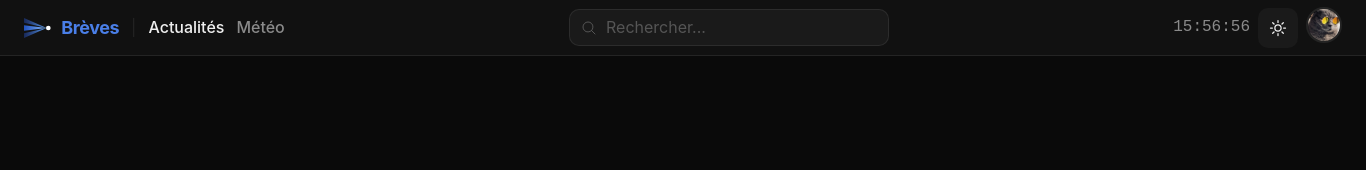
Header › connecté › opens dropdown on avatar click
Click the button named "Menu utilisateur": coordinates (1324, 25) x1=1306 y1=7 x2=1342 y2=43
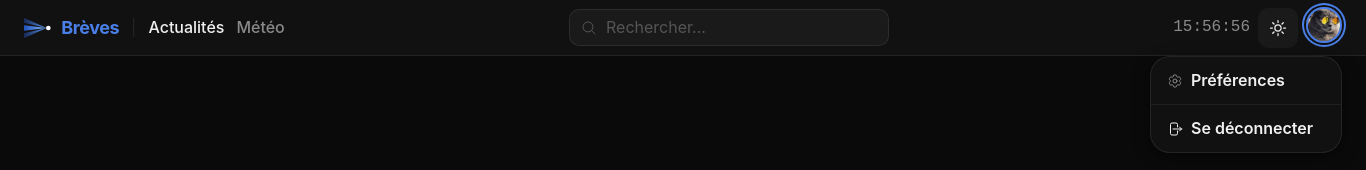
Expected: the menu is shown, x1=1150 y1=56 x2=1342 y2=153
